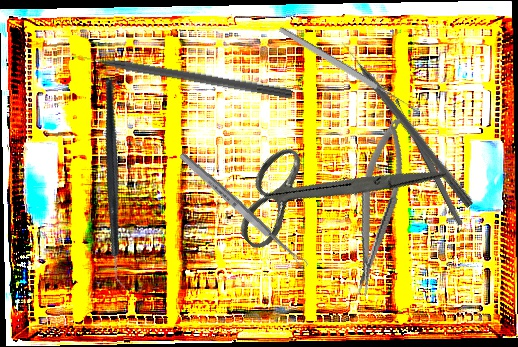Chopper: (43, 77, 191, 293)
Iris Scissors: (214, 76, 449, 306)
Needle Holder: (338, 114, 416, 299)
Pusher: (338, 37, 476, 209), (67, 47, 294, 100)
Surgical Spoon: (177, 150, 310, 272), (277, 24, 421, 117), (392, 97, 465, 227)
